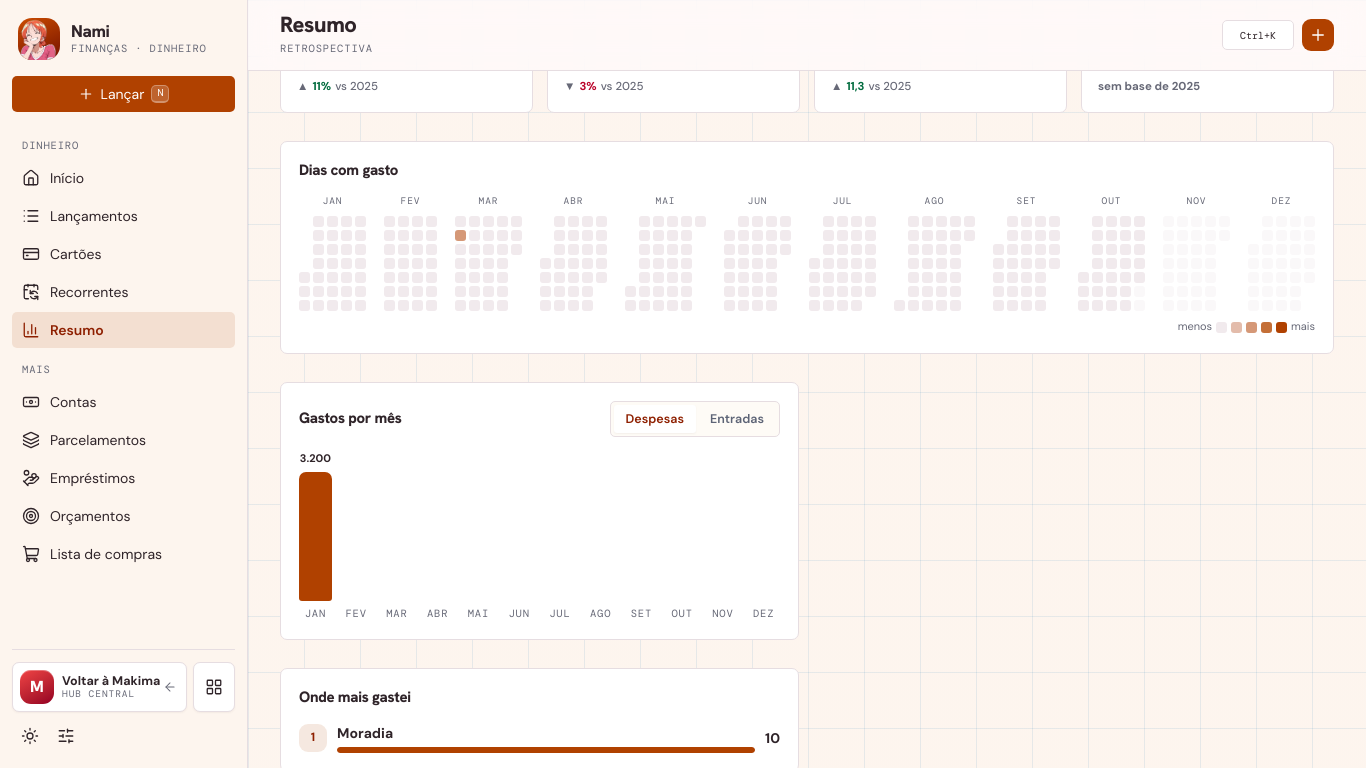
Test: Resumo › mostra a retrospectiva com o patrimônio real e alterna despesas × entradas
The image size is (1366, 768).
(page scrolled)
Expected: the heading "Gastos por mês" is shown, x1=299 y1=408 x2=402 y2=430
Step 1. Click the button "Entradas" → (737, 419), box x1=698 y1=405 x2=776 y2=433
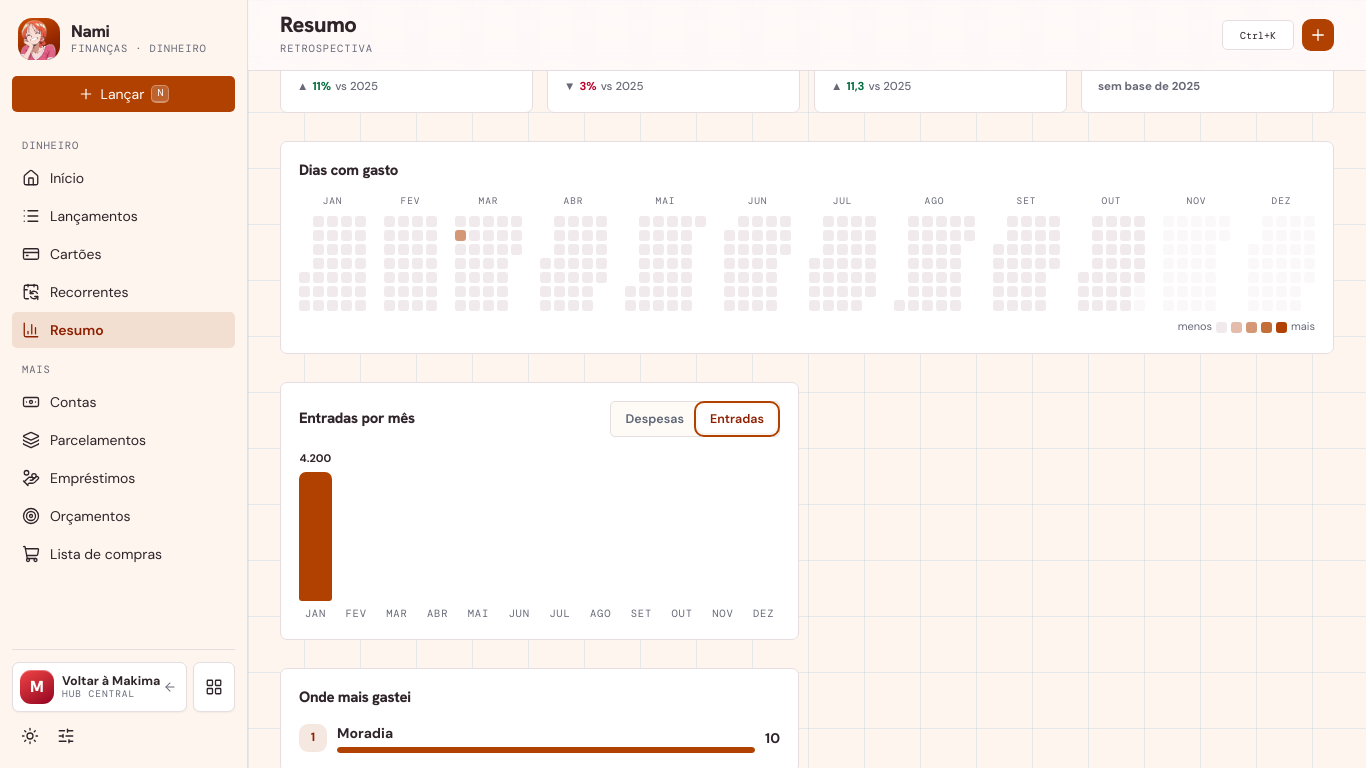
Expected: the heading "Entradas por mês" is shown, x1=299 y1=408 x2=415 y2=430
